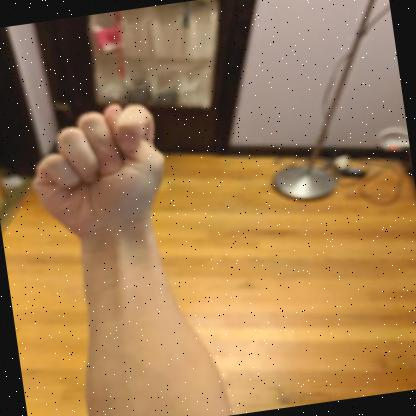T: (32, 102, 165, 243)
